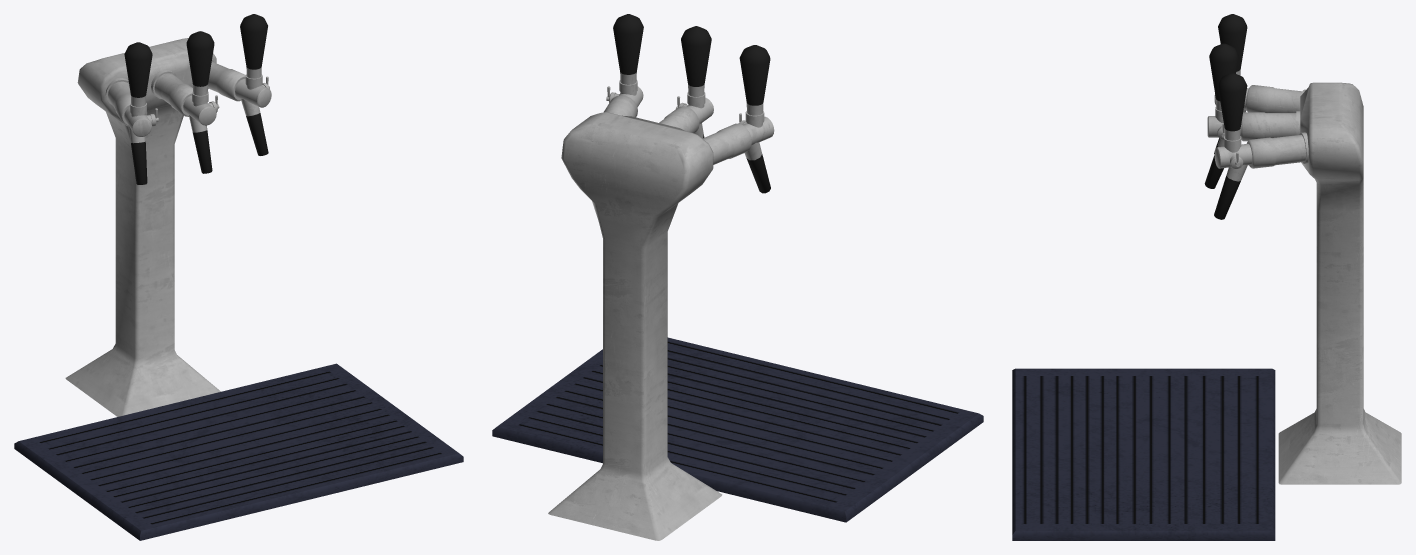
File: BeerDispenser02.FBX
3 views of the same model, side by side, from view 1: azimuth 30°, elevation 25°; view 2: azimuth 150°, elevation 25°; view 3: azimuth 270°, elevation 25° (orthographic). The views are drawn at different scales.
Parts seen in each view (by area): view 1: BeerDispenser02; view 2: BeerDispenser02; view 3: BeerDispenser02.
Part boxes in pixels (x1,y1,x2,y2): BeerDispenser02: (14, 14, 463, 540); BeerDispenser02: (492, 14, 983, 540); BeerDispenser02: (1012, 14, 1401, 540).
Bounding box in the file's own units: 43.3 × 50.56 × 43.15.
